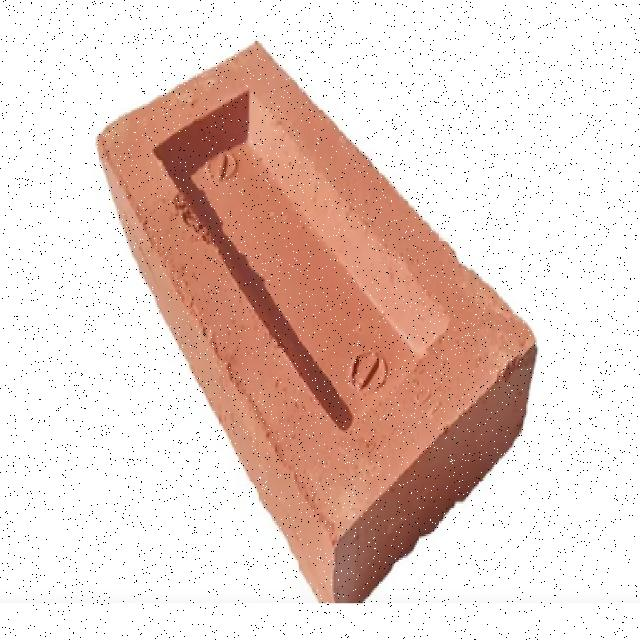bricks: (94, 38, 540, 605)
